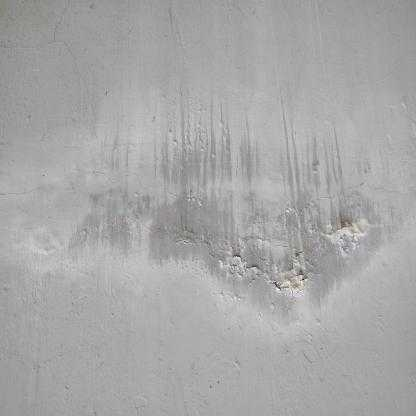crack: (220, 254, 310, 295)
